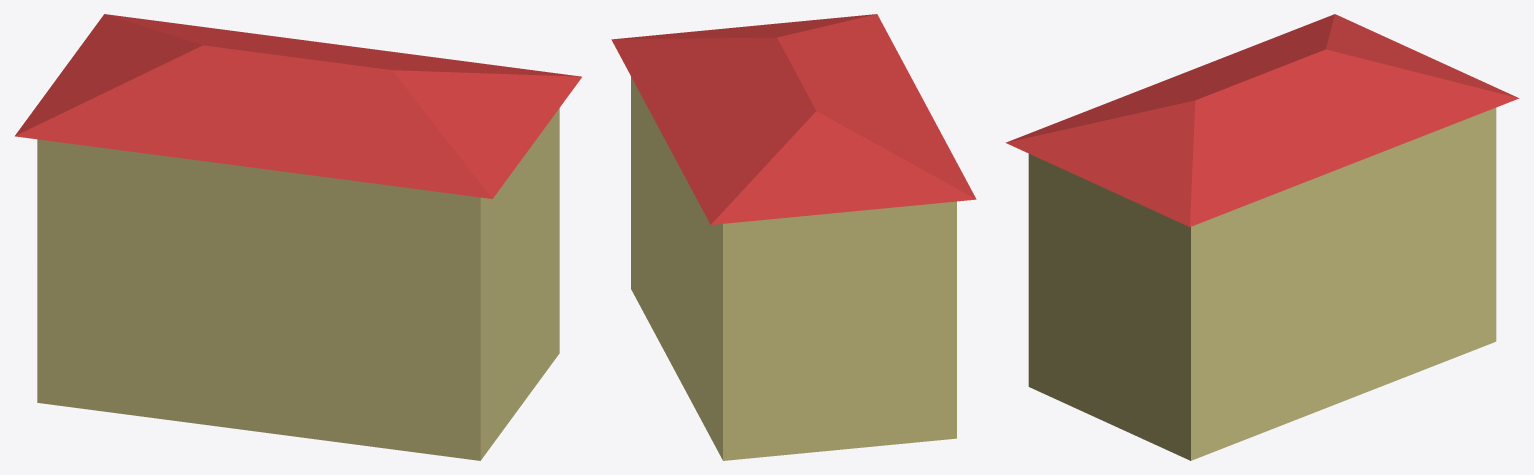
3 renders of one model, left to right at view 1: azimuth 30°, elevation 25°; view 2: azimuth 150°, elevation 25°; view 3: azimuth 270°, elevation 25°, orthographic. The views are drawn at different scales.
Parts seen in each view (by area): view 1: group_5, group_3, group_4; view 2: group_5, group_3, group_4; view 3: group_5, group_3, group_4.
Part boxes in pixels (x1=…): group_5: x1=37, y1=108, x2=559, y2=460; group_3: x1=37, y1=17, x2=558, y2=183; group_4: x1=15, y1=14, x2=581, y2=198; group_5: x1=631, y1=77, x2=956, y2=460; group_3: x1=631, y1=17, x2=956, y2=224; group_4: x1=611, y1=14, x2=976, y2=224; group_5: x1=1028, y1=107, x2=1496, y2=460; group_3: x1=1029, y1=18, x2=1495, y2=211; group_4: x1=1005, y1=14, x2=1519, y2=226.
Bounding box in the file's own units: 23.09 × 23.54 × 14.56.
